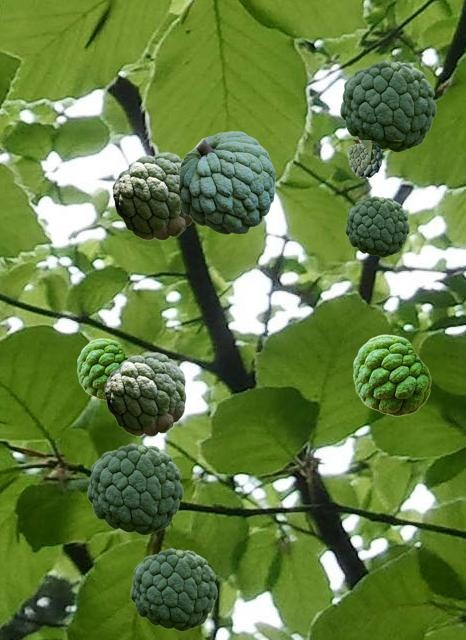atis: (179, 131, 274, 233), (340, 60, 435, 151), (87, 443, 182, 534), (130, 548, 216, 630), (112, 152, 192, 239), (104, 352, 185, 435), (353, 334, 430, 415), (345, 196, 408, 256), (77, 338, 128, 400), (347, 140, 400, 177)
